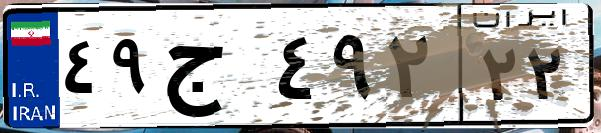2: (385, 28, 445, 110), (475, 38, 525, 113), (525, 38, 570, 115)
4: (270, 28, 330, 110), (57, 26, 110, 100)
9: (330, 28, 385, 110), (110, 28, 158, 98)
ج: (158, 20, 270, 120)
